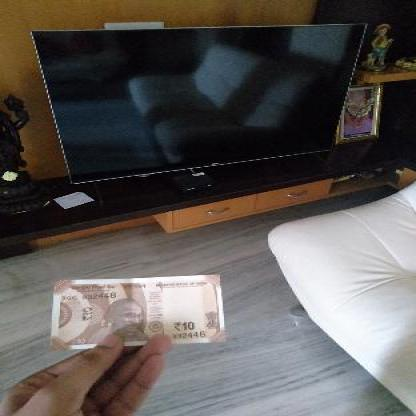New10Front: (53, 279, 223, 346)
